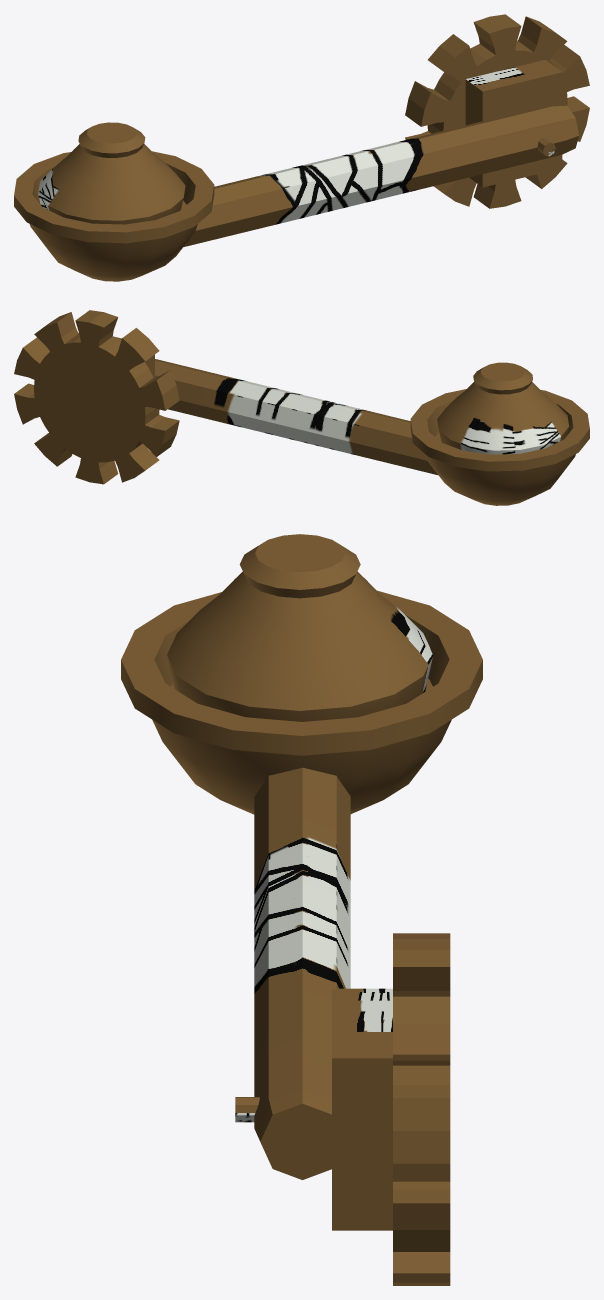
The model's file is turret_2_2.glb.
The picture shows the model from 3 angles, top to bottom: view 1: azimuth 30°, elevation 25°; view 2: azimuth 150°, elevation 25°; view 3: azimuth 270°, elevation 25°; orthographic projection. The views are drawn at different scales.
Visible parts, largest first — view 1: Gear, Bullet2; view 2: Gear, Bullet2; view 3: Gear, Bullet2.
Part boxes in pixels (x1,y1,x2,y2): Gear: [14, 14, 589, 281]; Bullet2: [38, 122, 185, 224]; Gear: [14, 310, 589, 505]; Bullet2: [437, 362, 569, 454]; Gear: [121, 590, 482, 1285]; Bullet2: [167, 534, 433, 721].
Size of the model in its own units: 5.06 by 1.6 by 1.5.
4 materials, 4 textured.
